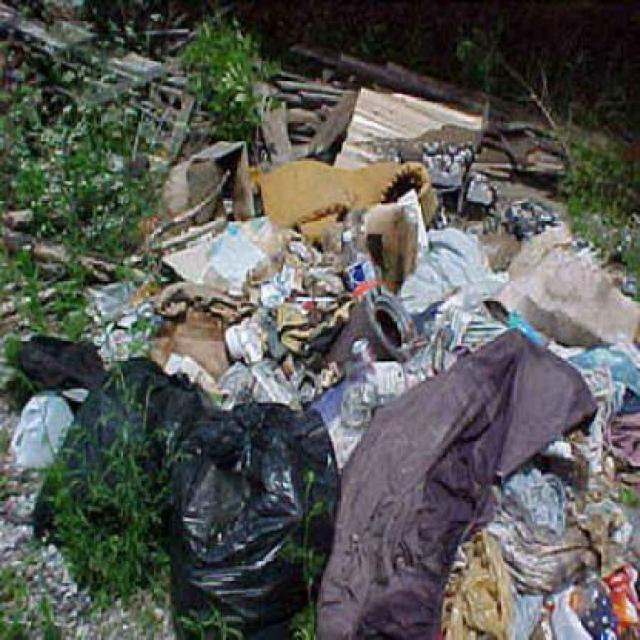garbage: (363, 305, 638, 638), (66, 362, 327, 616), (223, 220, 452, 452)
